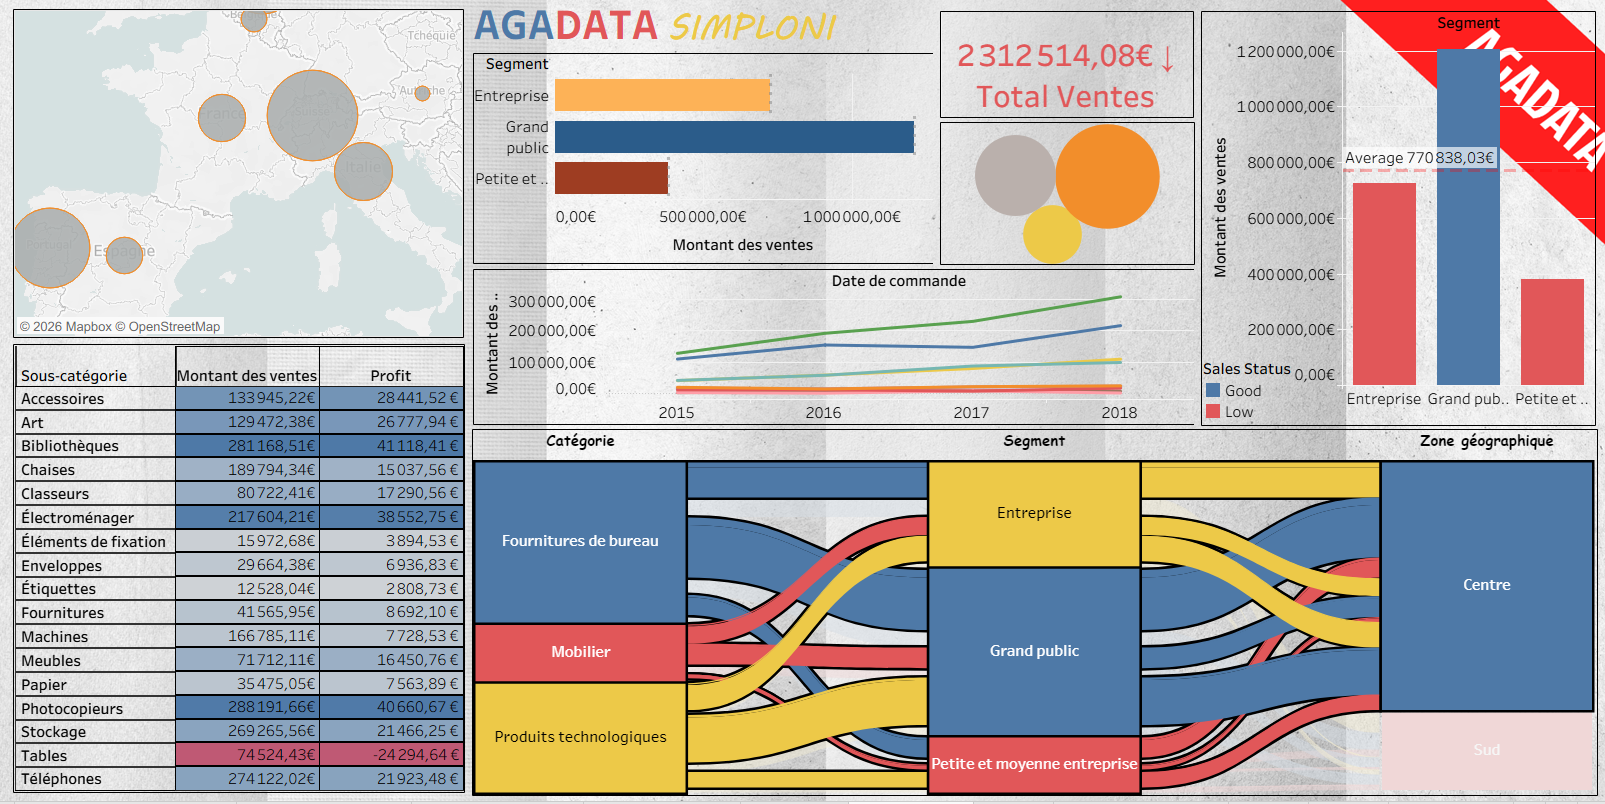

The dashboard page shown, as its layout file describes it:
{"tool":"tableau","page":{"name":"DASHBOARD FINAL","canvas":[1000,1000],"units":"permille","ordinal":0},"visuals":[{"type":"dashboard-object","box":[4.8,10,495.2,489.9]},{"type":"dashboard-object","box":[500,10,495.2,489.9]},{"type":"worksheet","title":"pays","mark":"Automatic","box":[13.3,12.5,278.8,418.2]},{"type":"worksheet","title":"ventes KPI","mark":"Automatic","box":[587.5,13.7,155.7,136.1]},{"type":"worksheet","title":"Mise en forme conditionnelle","mark":"Automatic","rows":["Montant des ventes"],"cols":["Segment"],"box":[746.9,15,248.1,518.1]},{"type":"worksheet","title":"segment/ventes","mark":"Automatic","rows":["Segment"],"cols":["Montant des ventes"],"box":[295.1,67.4,288.5,263.4]},{"type":"worksheet","title":"seg/montant","mark":"Circle","box":[587.2,153.6,155.7,178.5]},{"type":"worksheet","title":"ventes/years","mark":"Automatic","rows":["Montant des ventes"],"cols":["Date de commande"],"box":[295.3,337.1,447.3,194.8]},{"type":"worksheet","title":"Sous.categories/ventes","mark":"Square","rows":["Sous-catégorie"],"box":[13.9,430.7,276.4,560.6]},{"type":"legend","title":"Mise en forme conditionnelle","param":"[federated.1gj9i310744lpi126c0ez101291l].[usr:Calculation_0509106293706758:nk]","box":[748,448.2,78.2,79.9]},{"type":"title","box":[4.8,499.9,990.3,93.6]},{"type":"worksheet","title":"Categorie/ Segment/ Zone geo via profit ","box":[294.7,539.3,699.8,455.7]}]}

Visuals, with their boxes on the dashboard's canvas, which has no fixed pixel size, in thousandths of its width and height (x1, y1, x2, y2). These are canvas units, not pixel positions in the 1605x804 screenshot, which may show the page scaled, cropped or inside an application window:
dashboard-object: (5, 10, 500, 500)
dashboard-object: (500, 10, 995, 500)
"pays" worksheet: (13, 12, 292, 431)
"ventes KPI" worksheet: (588, 14, 743, 150)
"Mise en forme conditionnelle" worksheet: (747, 15, 995, 533)
"segment/ventes" worksheet: (295, 67, 584, 331)
"seg/montant" worksheet (Circle marks): (587, 154, 743, 332)
"ventes/years" worksheet: (295, 337, 743, 532)
"Sous.categories/ventes" worksheet (Square marks): (14, 431, 290, 991)
"Mise en forme conditionnelle" legend: (748, 448, 826, 528)
title: (5, 500, 995, 594)
"Categorie/ Segment/ Zone geo via profit " worksheet: (295, 539, 994, 995)
